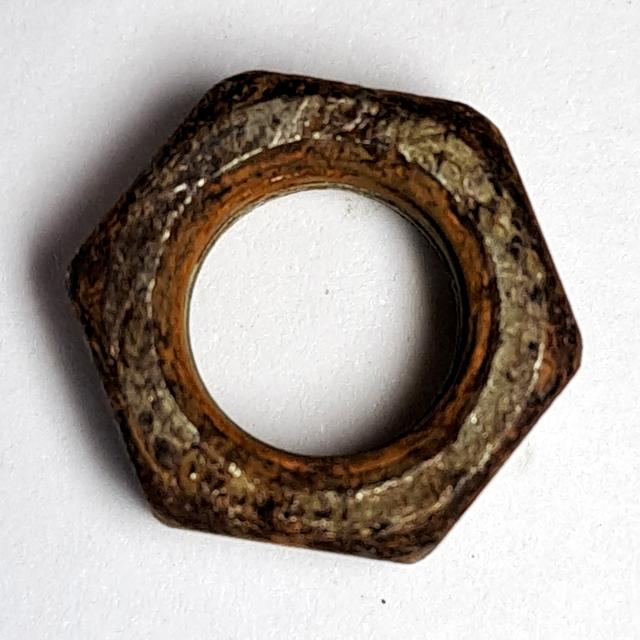Rust: (49, 55, 600, 573)
